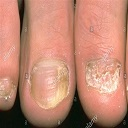Nail Fungal Infection: (84, 61, 126, 94), (52, 65, 72, 105)
